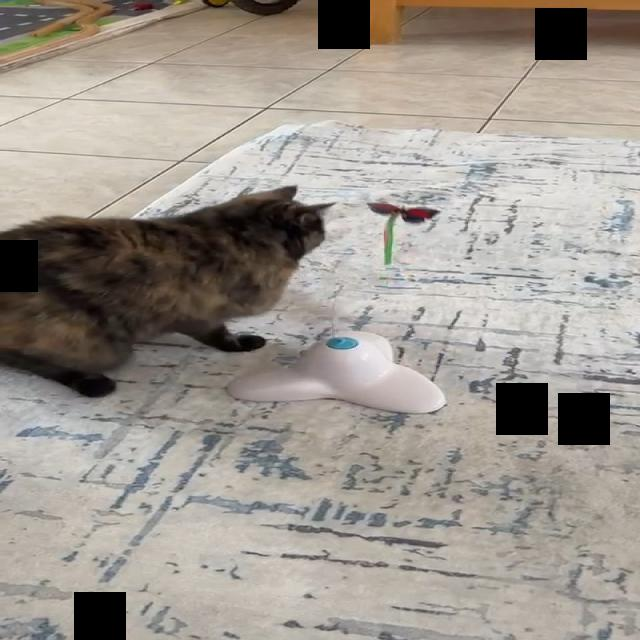authorized: (0, 183, 337, 397)
